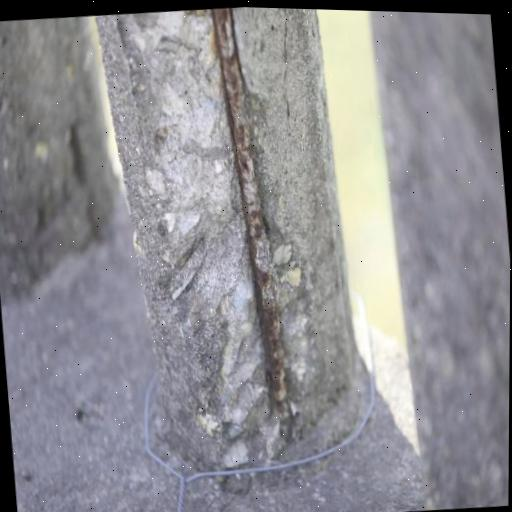exposed_rebar: (212, 8, 289, 413)
